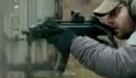gun: (1, 1, 136, 78)
